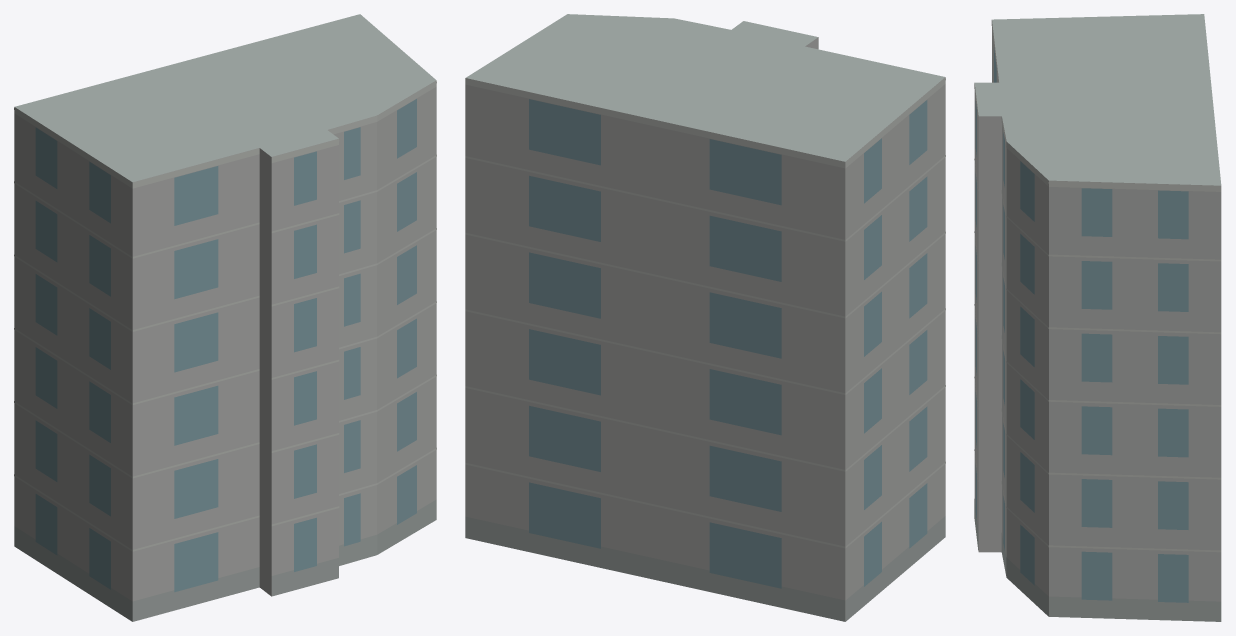
Rendered from survey-upis-32783909.glb.
3 views of the same model, side by side, from view 1: azimuth 30°, elevation 25°; view 2: azimuth 150°, elevation 25°; view 3: azimuth 270°, elevation 25° (orthographic). The views are drawn at different scales.
Visible parts, largest first — view 1: survey-upis-32783909.tmp; view 2: survey-upis-32783909.tmp; view 3: survey-upis-32783909.tmp.
Part boxes in pixels (x1,y1,x2,y2): survey-upis-32783909.tmp: (14,14,436,621); survey-upis-32783909.tmp: (465,14,945,621); survey-upis-32783909.tmp: (974,14,1221,621).
Bounding box in the file's own units: 14.29 × 16.9 × 8.69.
